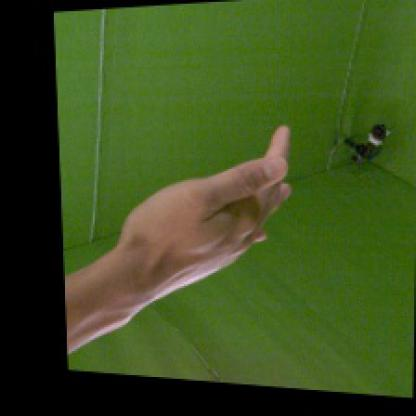Hand: (122, 126, 292, 284)
